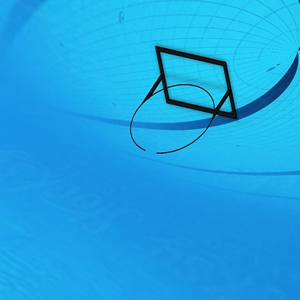circle: (129, 45, 244, 156)
